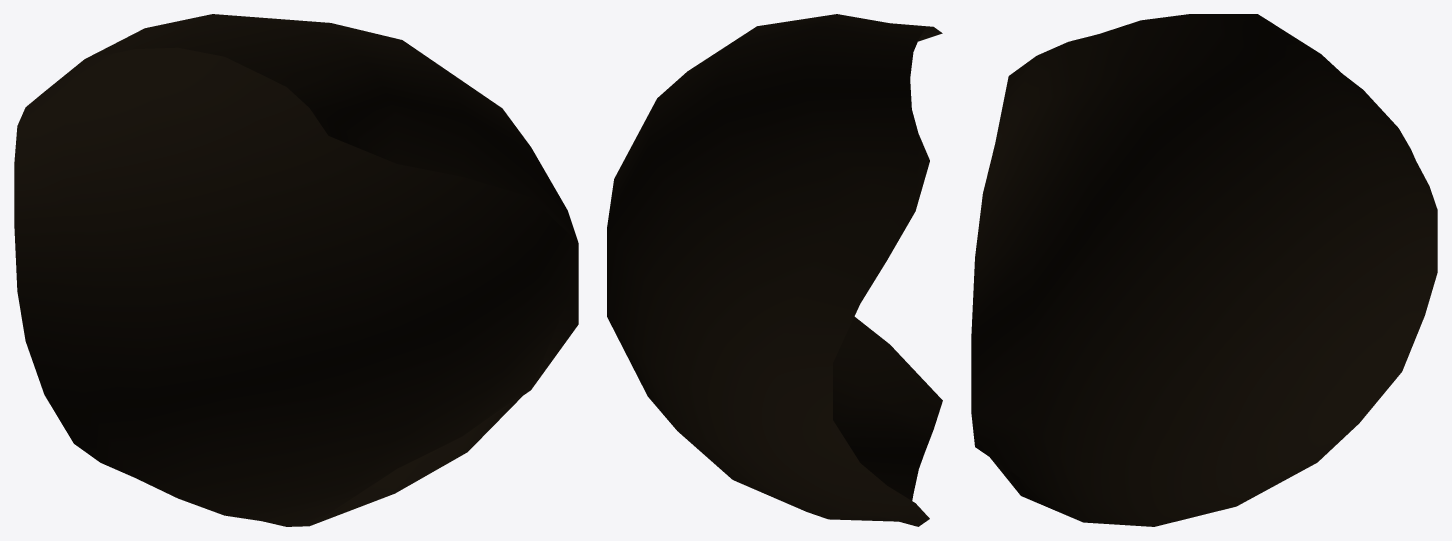
File: scorcher_dome.glb
The picture shows the model from 3 angles, left to right: view 1: azimuth 30°, elevation 25°; view 2: azimuth 150°, elevation 25°; view 3: azimuth 270°, elevation 25°; orthographic projection. The views are drawn at different scales.
Visible parts, largest first — view 1: weapons/scorcher_dome_0; view 2: weapons/scorcher_dome_0; view 3: weapons/scorcher_dome_0.
Part boxes in pixels (box(x1,y1,x2,y2)): weapons/scorcher_dome_0: box(14, 14, 578, 526); weapons/scorcher_dome_0: box(607, 14, 942, 526); weapons/scorcher_dome_0: box(971, 14, 1437, 526).
Size of the model in its own units: 1.76 by 2 by 1.87.
1 material, 1 textured.
